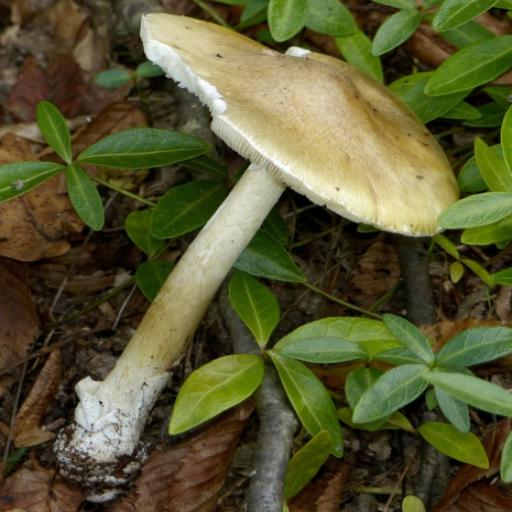Death Cap: (17, 11, 477, 512)
